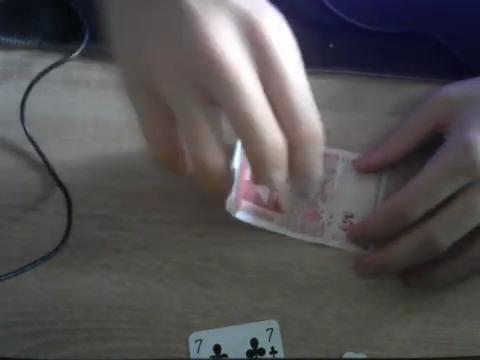5leva: (226, 147, 396, 251)
